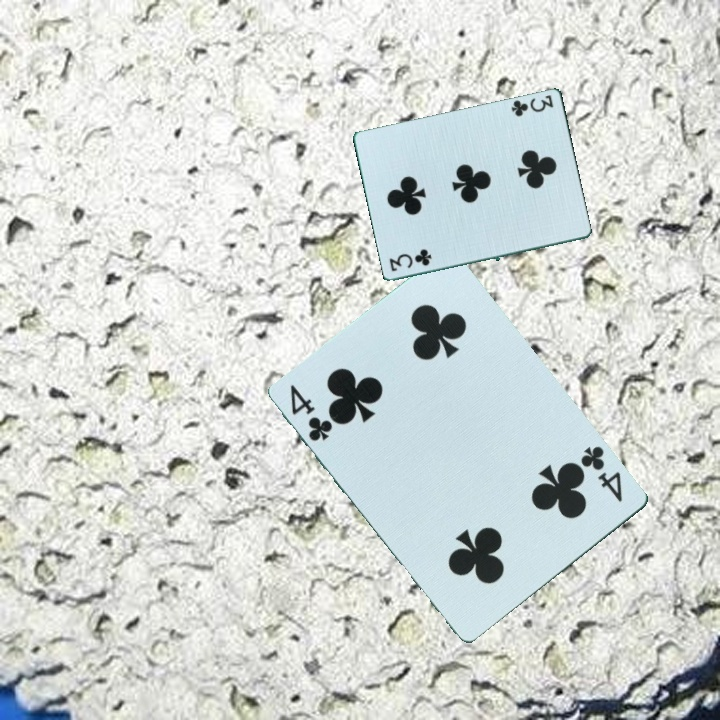3c: (508, 91, 556, 119), (386, 250, 435, 274)
4c: (287, 381, 337, 445), (577, 442, 627, 505)
